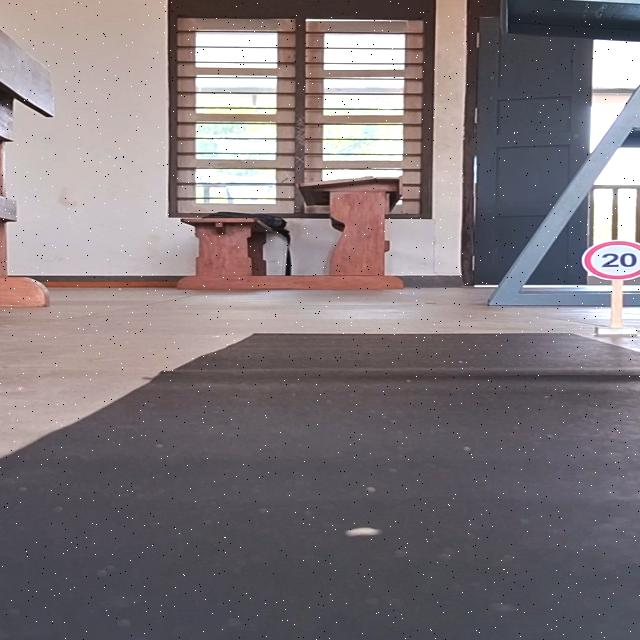Speed20: (579, 237, 640, 281)
